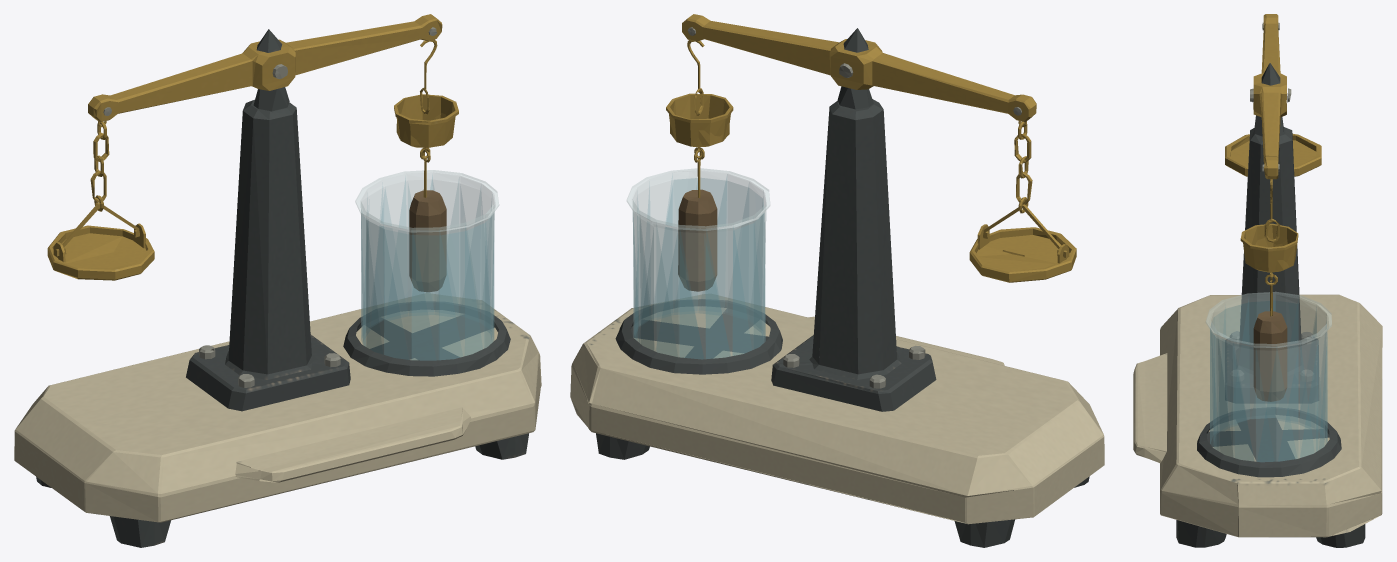
File: 29-hydrostatic-balance.fbx
The picture shows the model from 3 angles, left to right: view 1: azimuth 30°, elevation 25°; view 2: azimuth 150°, elevation 25°; view 3: azimuth 270°, elevation 25°; orthographic projection. The views are drawn at different scales.
Visible parts, largest first — view 1: Meshy_Base, Meshy_ClearBeaker, Meshy_Column, Meshy_BalanceBeam, Meshy_BeakerSeat, Meshy_FrontGraspHandle, Meshy_part_06, Meshy_LeftPan, Meshy_SuspendedSpecimen, Meshy_RightPan, Meshy_part_01, Meshy_part_02 (+1 smaller); view 2: Meshy_Base, Meshy_ClearBeaker, Meshy_Column, Meshy_BalanceBeam, Meshy_BeakerSeat, Meshy_part_06, Meshy_LeftPan, Meshy_SuspendedSpecimen, Meshy_RightPan, Meshy_part_00, Meshy_part_03, Meshy_part_30; view 3: Meshy_Base, Meshy_ClearBeaker, Meshy_Column, Meshy_BeakerSeat, Meshy_FrontGraspHandle, Meshy_BalanceBeam, Meshy_SuspendedSpecimen, Meshy_part_06, Meshy_RightPan, Meshy_LeftPan, Meshy_part_02, Meshy_part_03.
Part boxes in pixels (<box>): Meshy_Base: <box>14,293,541,522</box>; Meshy_ClearBeaker: <box>355,170,498,360</box>; Meshy_Column: <box>225,99,314,379</box>; Meshy_BalanceBeam: <box>88,14,442,121</box>; Meshy_BeakerSeat: <box>343,301,510,376</box>; Meshy_FrontGraspHandle: <box>235,407,471,482</box>; Meshy_part_06: <box>186,334,350,411</box>; Meshy_LeftPan: <box>47,225,154,280</box>; Meshy_SuspendedSpecimen: <box>409,190,446,292</box>; Meshy_RightPan: <box>394,94,458,147</box>; Meshy_part_01: <box>110,516,170,547</box>; Meshy_part_02: <box>475,433,528,459</box>; Meshy_Base: <box>570,294,1104,524</box>; Meshy_ClearBeaker: <box>627,168,769,359</box>; Meshy_Column: <box>809,99,901,379</box>; Meshy_BalanceBeam: <box>682,14,1036,122</box>; Meshy_BeakerSeat: <box>615,299,782,374</box>; Meshy_part_06: <box>771,335,936,411</box>; Meshy_LeftPan: <box>969,227,1076,282</box>; Meshy_SuspendedSpecimen: <box>678,189,717,291</box>; Meshy_RightPan: <box>666,93,733,146</box>; Meshy_part_00: <box>954,490,1015,547</box>; Meshy_part_03: <box>596,433,649,459</box>; Meshy_part_30: <box>837,86,873,109</box>; Meshy_Base: <box>1160,294,1382,537</box>; Meshy_ClearBeaker: <box>1206,292,1331,462</box>; Meshy_Column: <box>1236,127,1305,374</box>; Meshy_BeakerSeat: <box>1197,407,1341,477</box>; Meshy_FrontGraspHandle: <box>1133,353,1167,463</box>; Meshy_BalanceBeam: <box>1253,14,1286,179</box>; Meshy_SuspendedSpecimen: <box>1253,311,1287,401</box>; Meshy_part_06: <box>1225,338,1318,403</box>; Meshy_RightPan: <box>1240,223,1298,272</box>; Meshy_LeftPan: <box>1225,134,1321,176</box>; Meshy_part_02: <box>1176,520,1226,547</box>; Meshy_part_03: <box>1316,524,1365,547</box>.
Bounding box in the file's own units: 0.55 × 0.4884 × 0.2827.
Materials: 7 (5 with a texture image).
